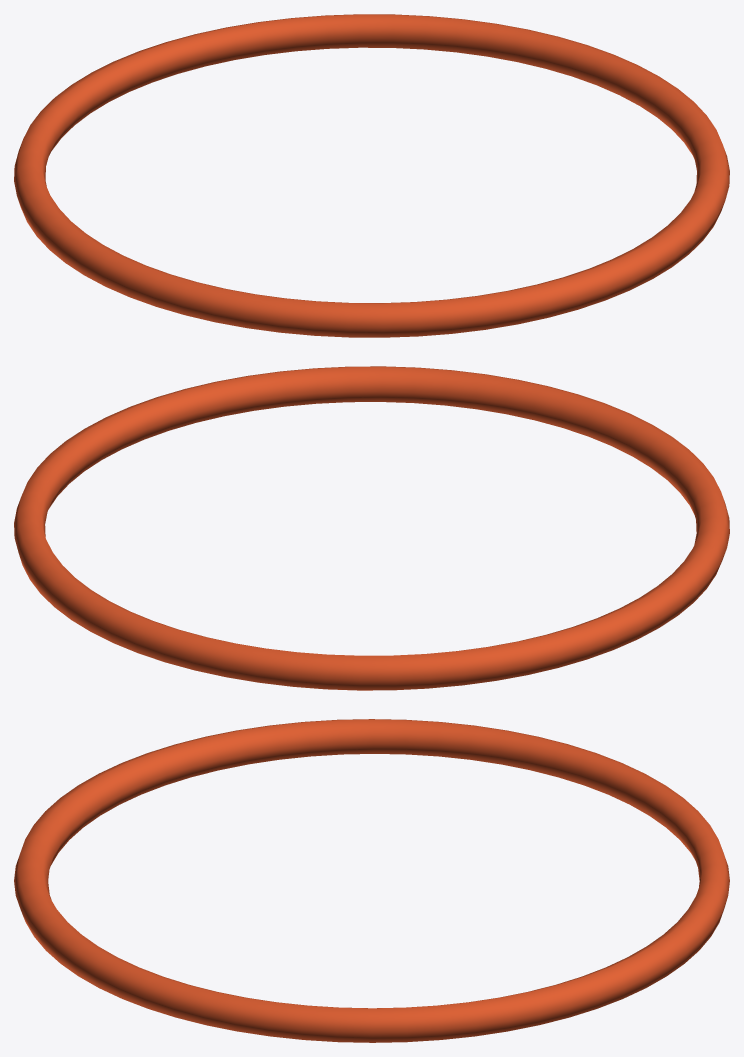
Rendered from Rim.fbx.
The picture shows the model from 3 angles, top to bottom: view 1: azimuth 30°, elevation 25°; view 2: azimuth 150°, elevation 25°; view 3: azimuth 270°, elevation 25°; orthographic projection.
Visible parts, largest first — view 1: Net; view 2: Net; view 3: Net.
Boxes of the visible parts, x1,y1,x2,y2 form: Net: [14, 14, 729, 337]; Net: [14, 366, 729, 690]; Net: [14, 719, 729, 1042].
Size of the model in its own units: 84.34 by 4.41 by 84.34.
